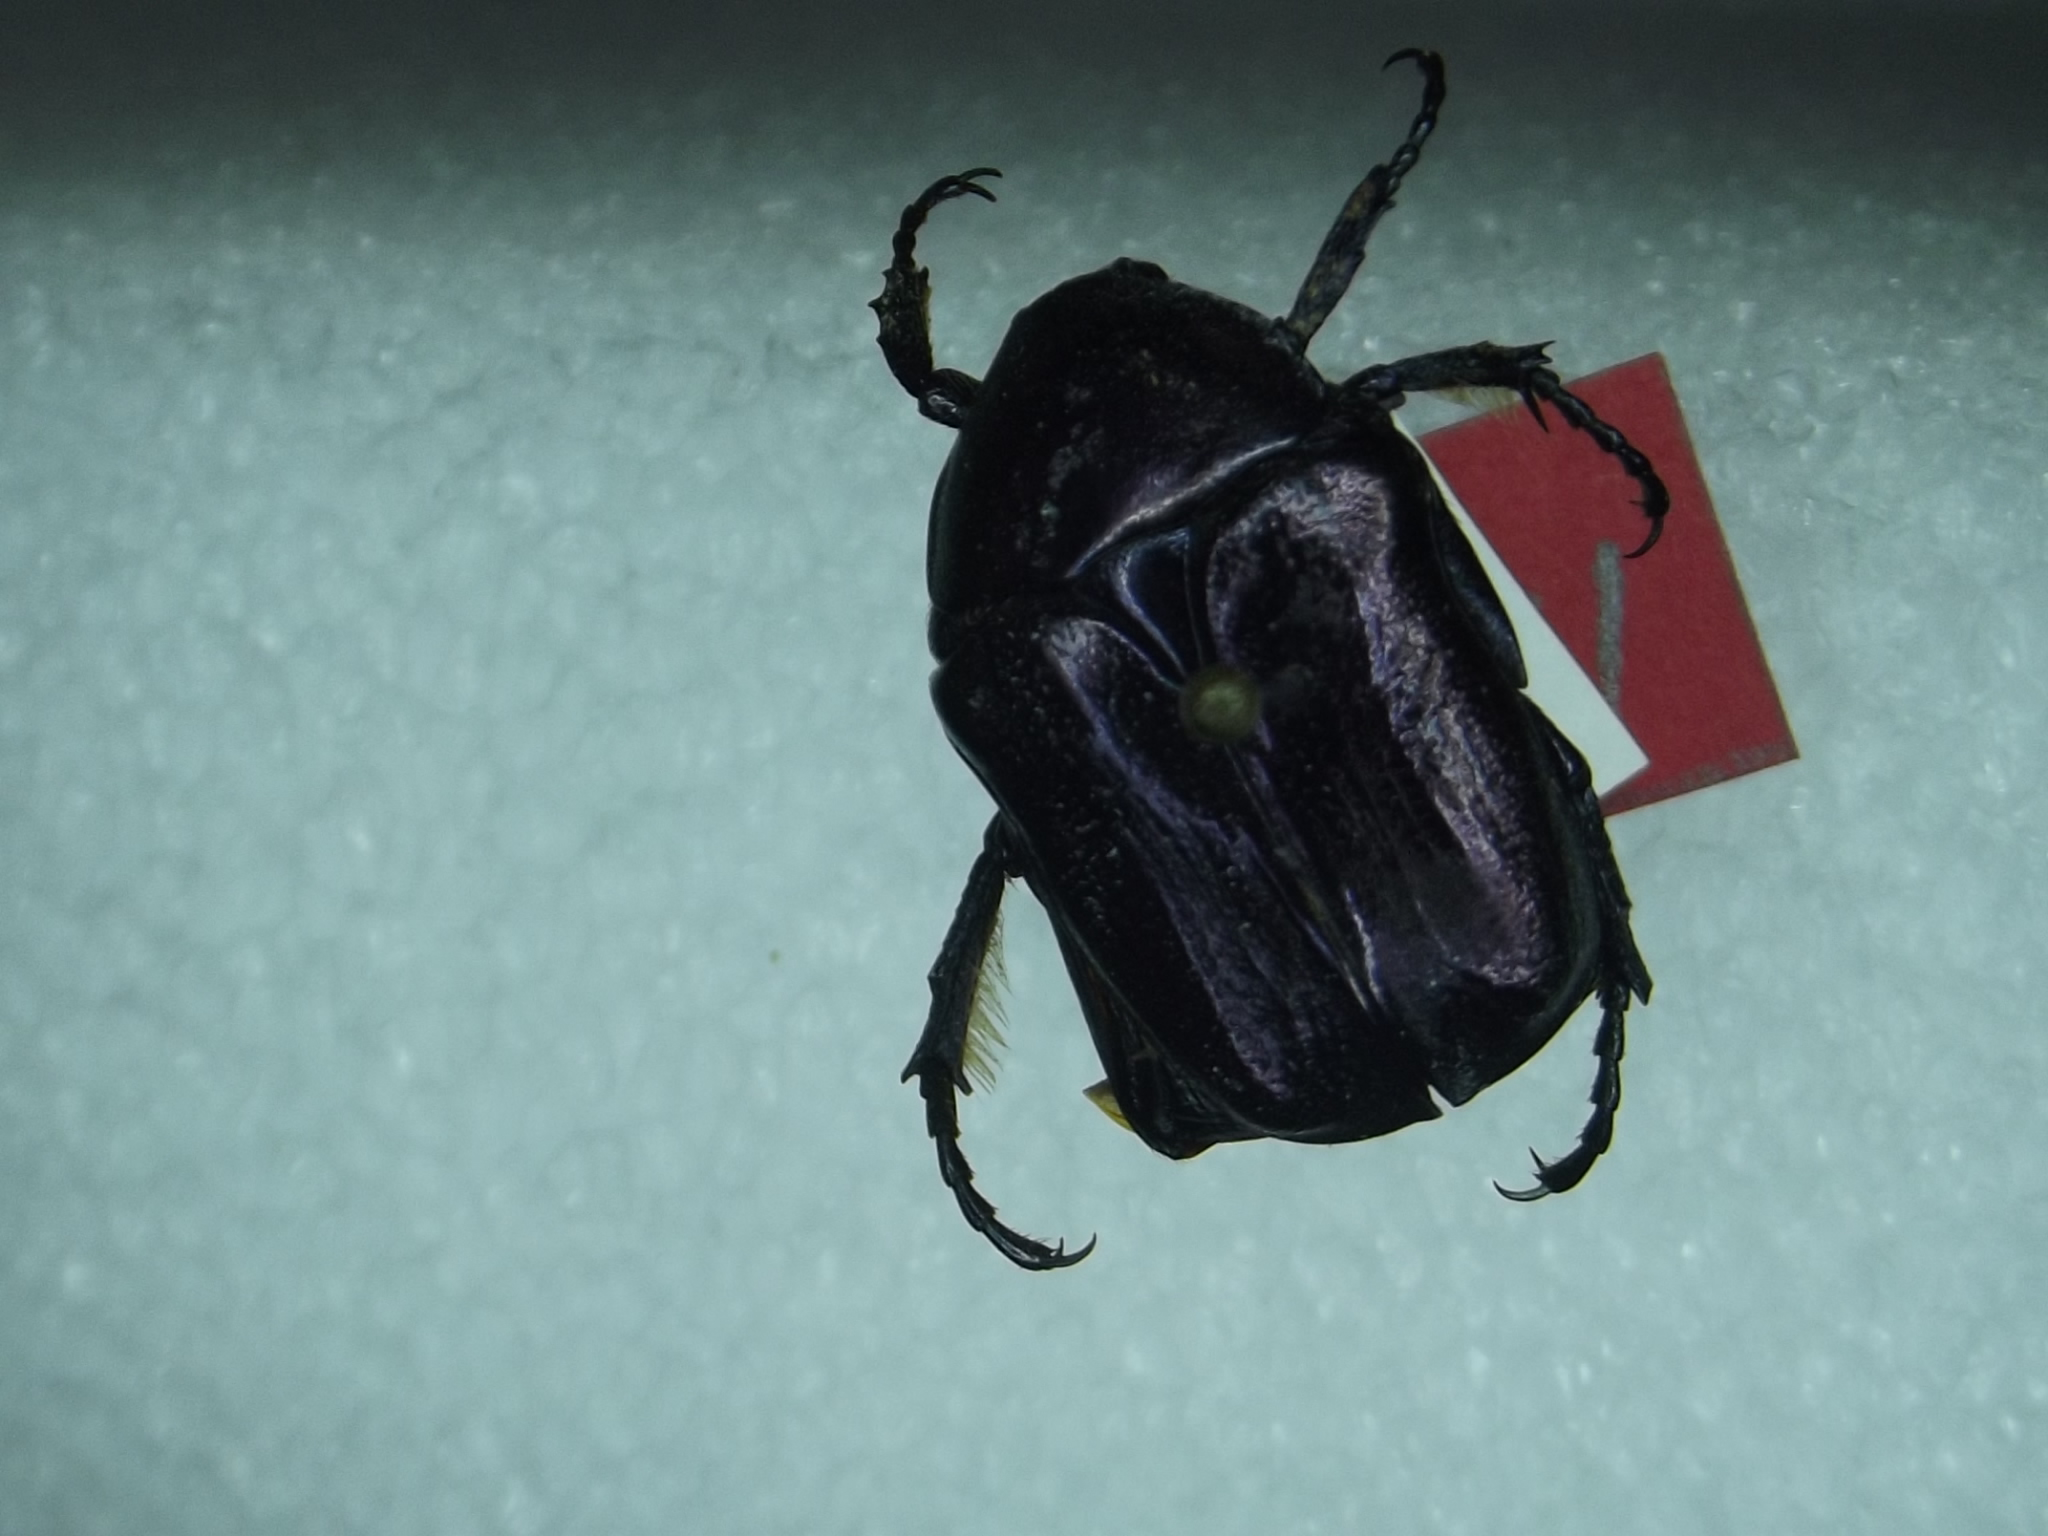Protaetia_besucheti: (813, 32, 1703, 1299)
